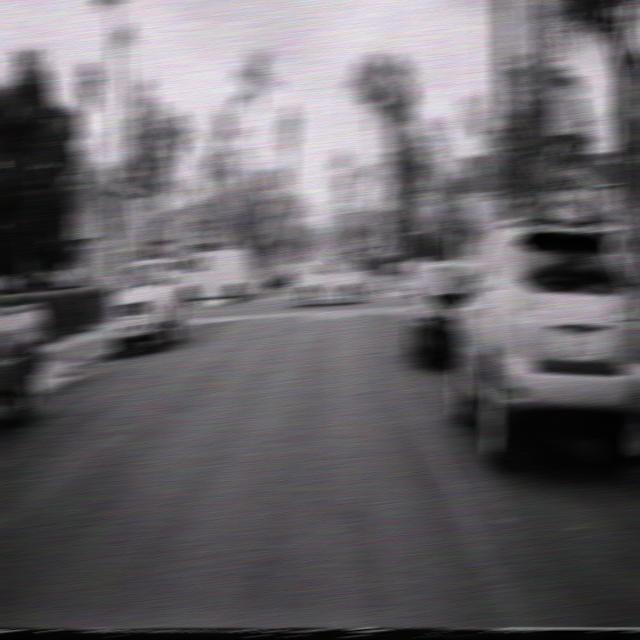stop_sign: (411, 195, 435, 228)
